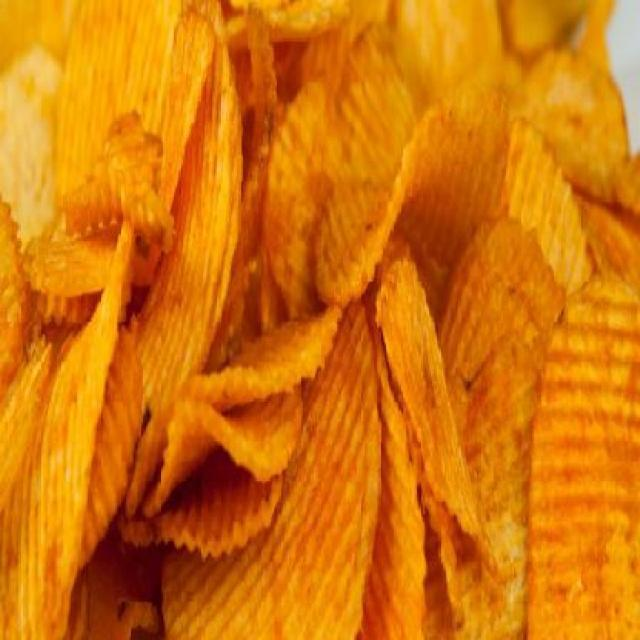Chips packaged: (0, 1, 638, 638)
